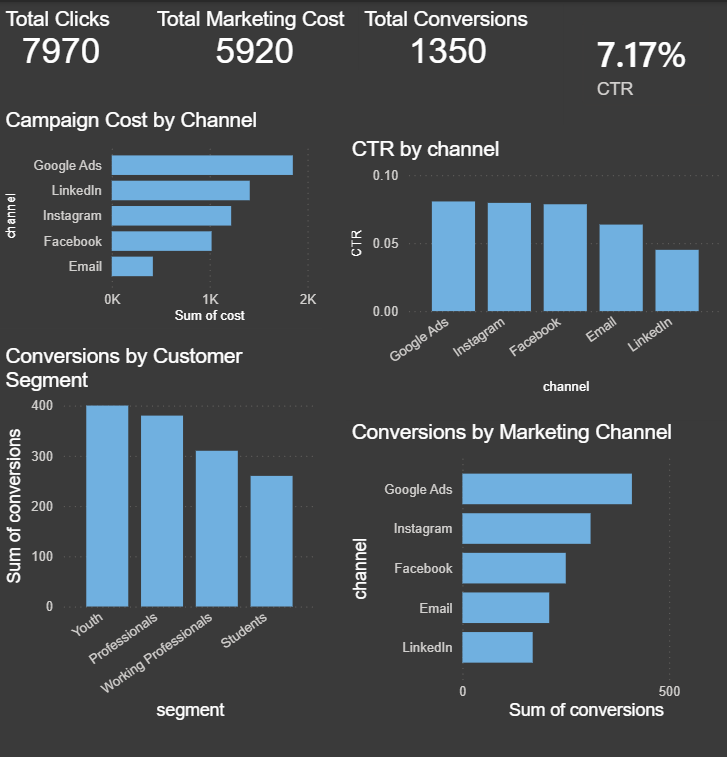

This screenshot's page, from the dashboard's own definition file:
{"tool":"powerbi","page":{"name":"Page 1","canvas":[1280,720],"ordinal":0},"visuals":[{"type":"barChart","title":"Conversions by Marketing Channel","fields":{"Category":["marketing_campaign.channel"],"Y":["Sum(marketing_campaign.conversions)"]},"box":[314.4,380,346.7,276.7],"z":0},{"type":"barChart","title":"Campaign Cost by Channel","fields":{"Category":["marketing_campaign.channel"],"Y":["Sum(marketing_campaign.cost)"]},"box":[0,96.7,292.2,200],"z":1000},{"type":"columnChart","title":"Conversions by Customer Segment","fields":{"Category":["marketing_campaign.segment"],"Y":["Sum(marketing_campaign.conversions)"]},"box":[0,311.1,292.2,345.6],"z":2000},{"type":"card","title":"Total Clicks","fields":{"Values":["Sum(marketing_campaign.clicks)"]},"box":[0,4.5,111.2,56.7],"z":3001},{"type":"card","title":"Total Marketing Cost","fields":{"Values":["Sum(marketing_campaign.cost)"]},"box":[137.2,4.5,188.3,56.7],"z":3002},{"type":"card","title":"Total Conversions","fields":{"Values":["Sum(marketing_campaign.conversions)"]},"box":[325.5,4.5,162.2,56.7],"z":3003},{"type":"cardVisual","title":"CTR","fields":{"Data":["marketing_campaign.CTR"]},"box":[511.1,0,150,111.1],"z":3005},{"type":"clusteredColumnChart","fields":{"Category":["marketing_campaign.channel"],"Y":["marketing_campaign.CTR"]},"box":[314.4,122.2,346.7,237.8],"z":3006}]}

Visuals, with their boxes on the page's 1280x720 design canvas (x1, y1, x2, y2). These are canvas units, not pixel positions in the 727x757 screenshot, which may show the page scaled, cropped or inside an application window:
"Conversions by Marketing Channel" barChart: l=314, t=380, r=661, b=657
"Campaign Cost by Channel" barChart: l=0, t=97, r=292, b=297
"Conversions by Customer Segment" columnChart: l=0, t=311, r=292, b=657
"Total Clicks" card: l=0, t=4, r=111, b=61
"Total Marketing Cost" card: l=137, t=4, r=326, b=61
"Total Conversions" card: l=326, t=4, r=488, b=61
"CTR" cardVisual: l=511, t=0, r=661, b=111
clusteredColumnChart - marketing_campaign.channel x marketing_campaign.CTR: l=314, t=122, r=661, b=360
